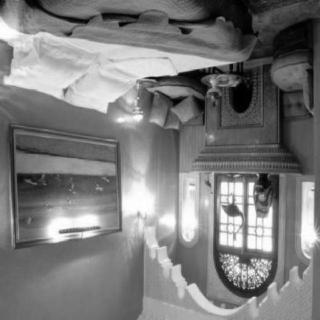other: (121, 186, 180, 237), (50, 212, 106, 236), (118, 93, 146, 133), (180, 200, 202, 237)
